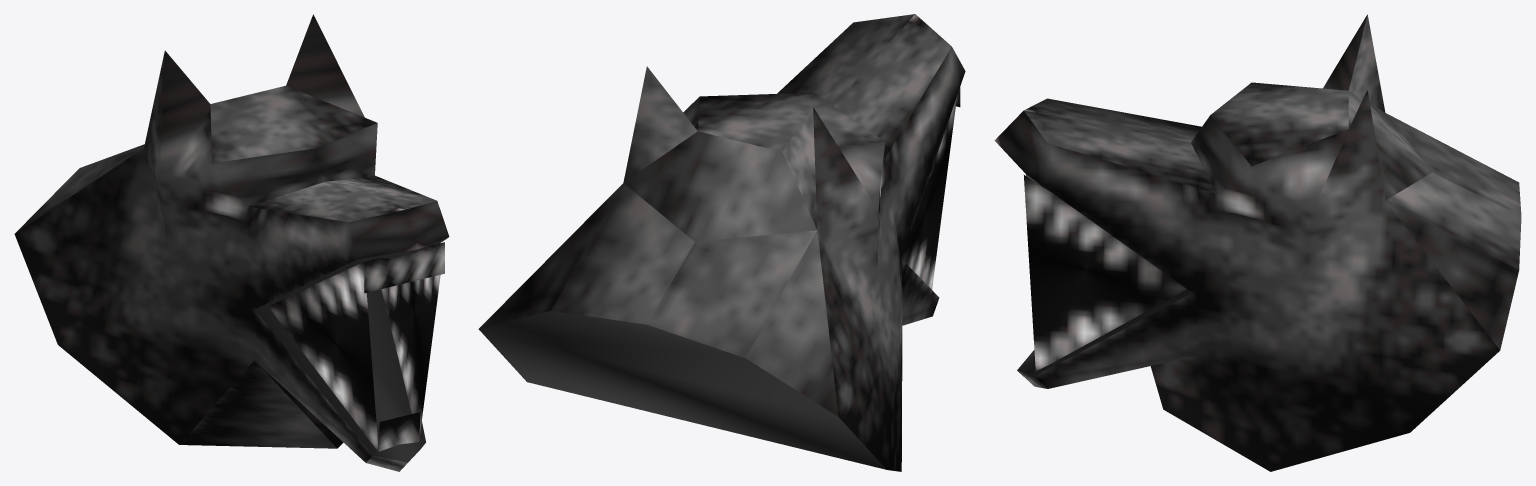
Rendered from Howl.obj.
The picture shows the model from 3 angles, left to right: view 1: azimuth 30°, elevation 25°; view 2: azimuth 150°, elevation 25°; view 3: azimuth 270°, elevation 25°; orthographic projection. The views are drawn at different scales.
Parts seen in each view (by area): view 1: Howl; view 2: Howl; view 3: Howl.
Boxes of the visible parts, x1,y1,x2,y2 form: Howl: (14, 14, 449, 471); Howl: (478, 14, 965, 471); Howl: (994, 14, 1521, 471).
Size of the model in its own units: 1.34 by 1.41 by 1.84.
1 material, 1 textured.
